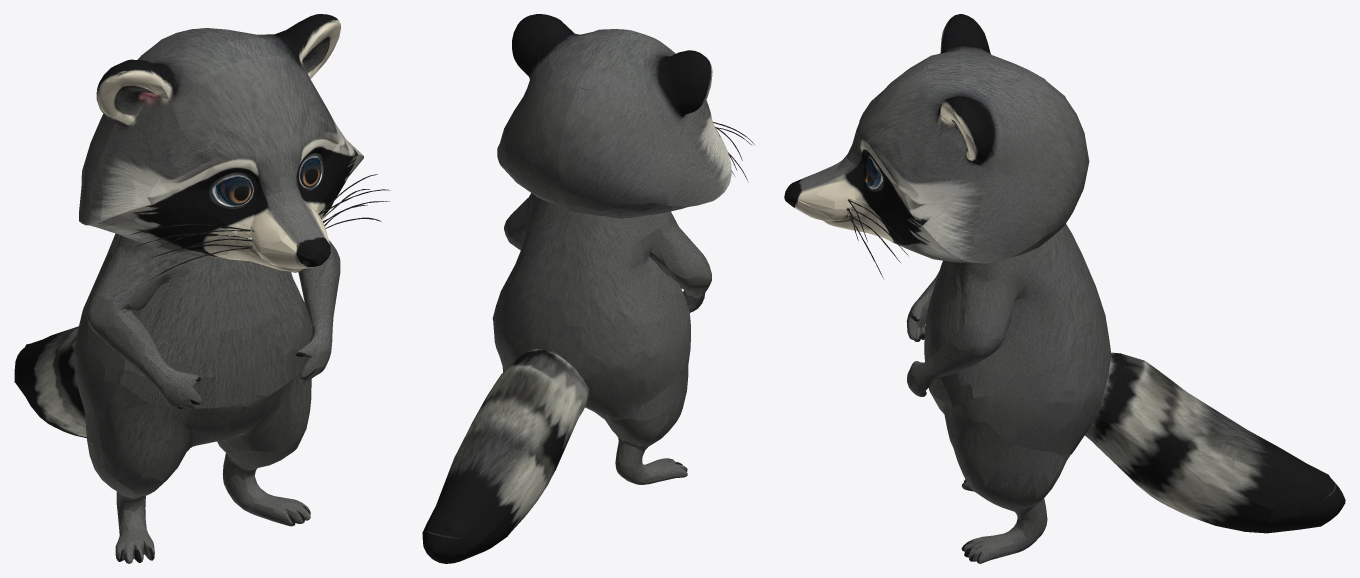
File: raccoon.glb
3 renders of one model, left to right at view 1: azimuth 30°, elevation 25°; view 2: azimuth 150°, elevation 25°; view 3: azimuth 270°, elevation 25°, orthographic. The views are drawn at different scales.
Parts seen in each view (by area): view 1: output_unwrapped; view 2: output_unwrapped; view 3: output_unwrapped.
Part boxes in pixels (left/top/right/bottom): output_unwrapped: left=14, top=14, right=390, bottom=563; output_unwrapped: left=422, top=14, right=754, bottom=563; output_unwrapped: left=784, top=14, right=1345, bottom=563.
Bounding box in the file's own units: 0.9609 × 1.74 × 1.9.
1 material, 1 textured.
